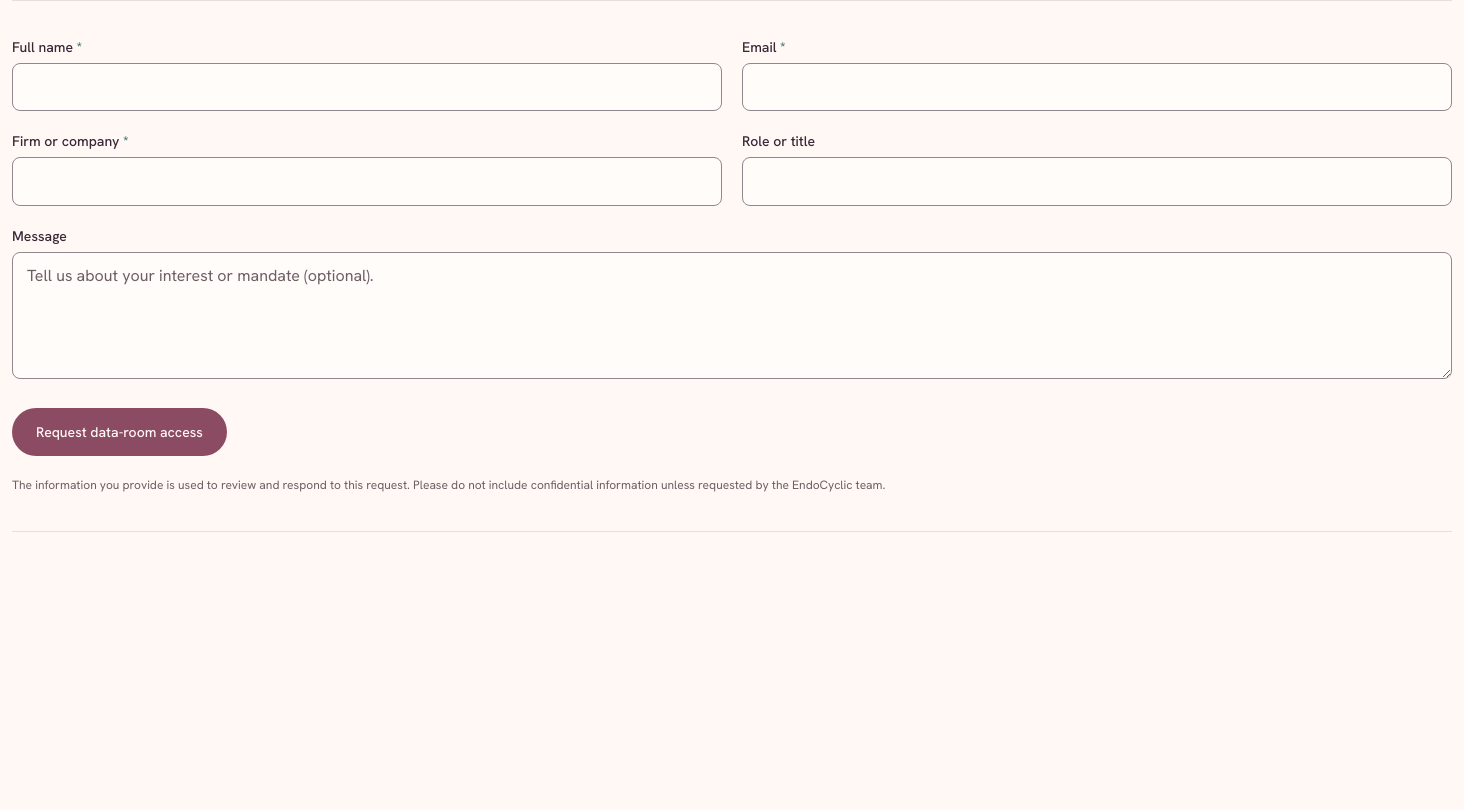
InvestorRequestForm › keeps request fields editable during a Retry-After gate
Type "Ada Lovelace" into the field labelled "Full name" at (367, 87), box [12,63,722,111]
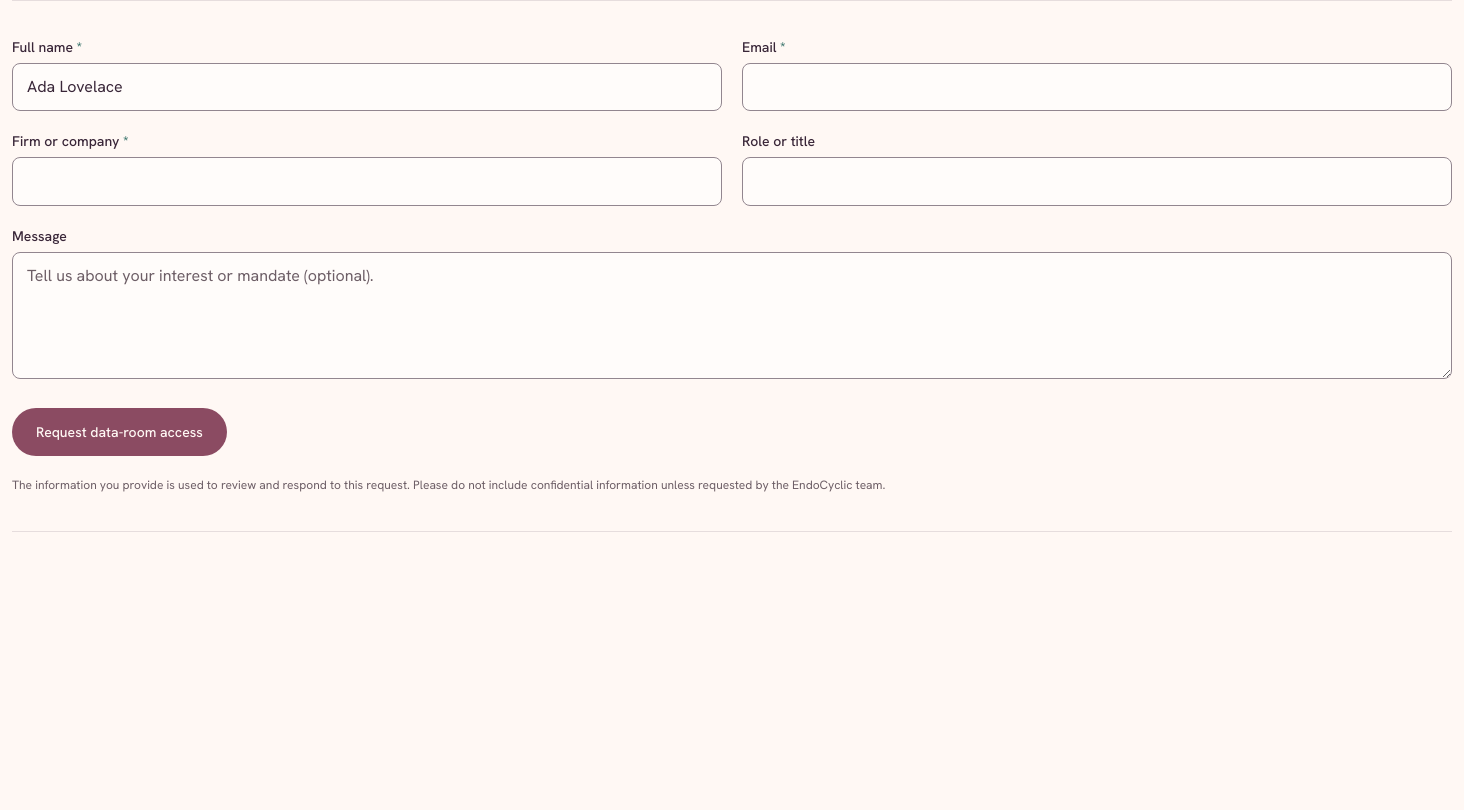
Type "ada@example.com" into the field labelled "Email" at (1097, 87), box [742,63,1452,111]
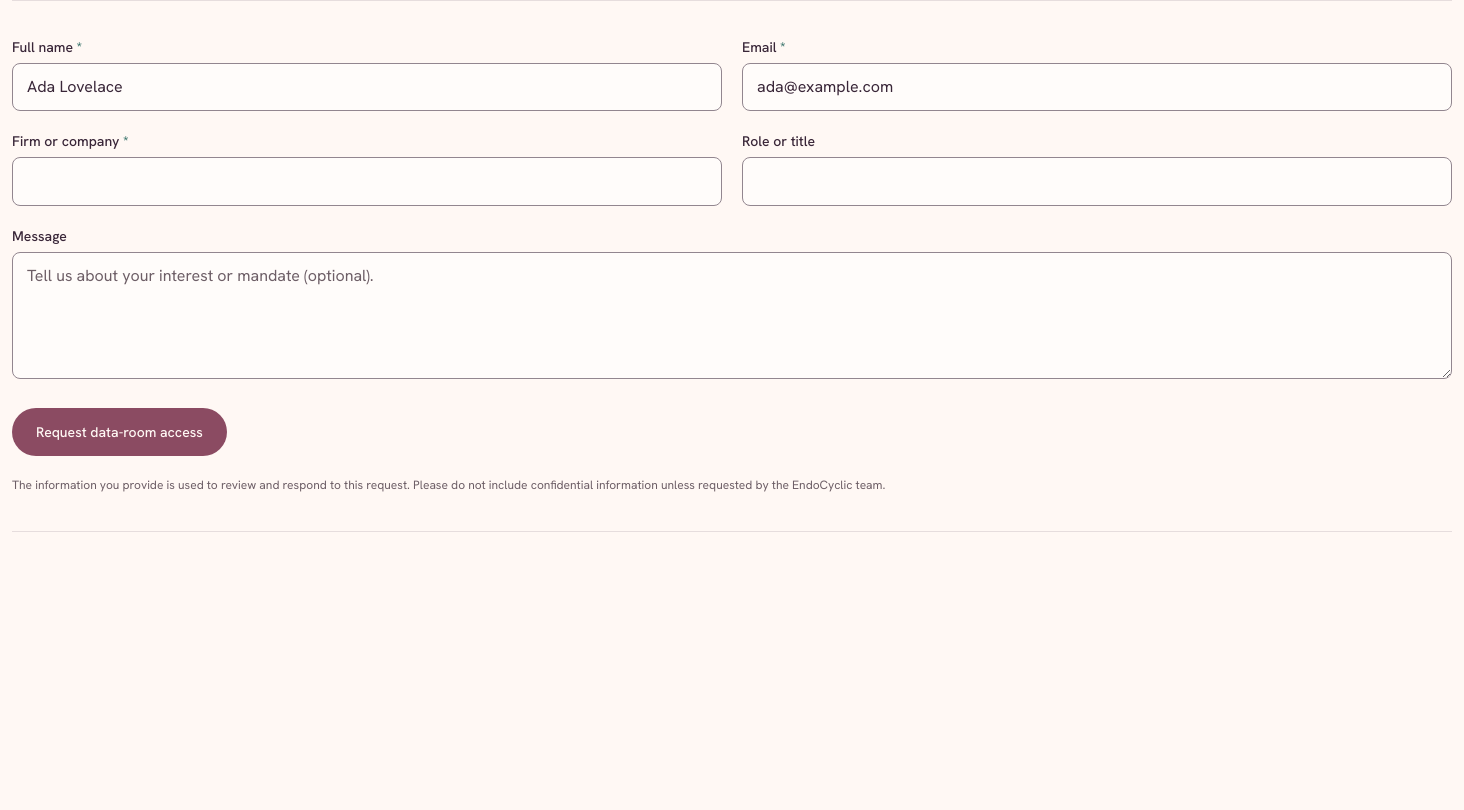
Type "Analytical Engine Partners" into the field labelled "Firm or company" at (367, 182), box [12,157,722,206]
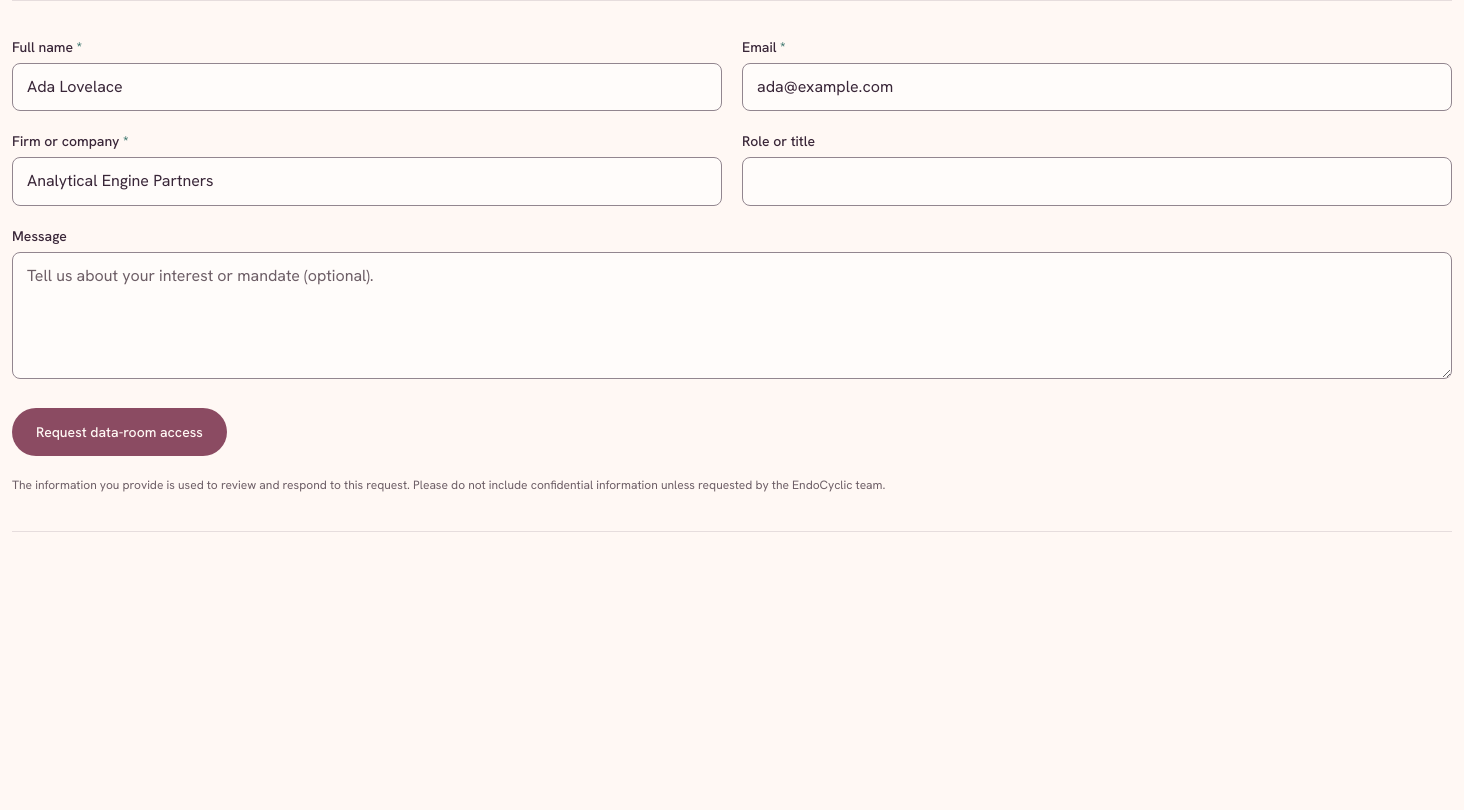
Click the button "Request data-room access" at (119, 432), box [12,408,227,456]
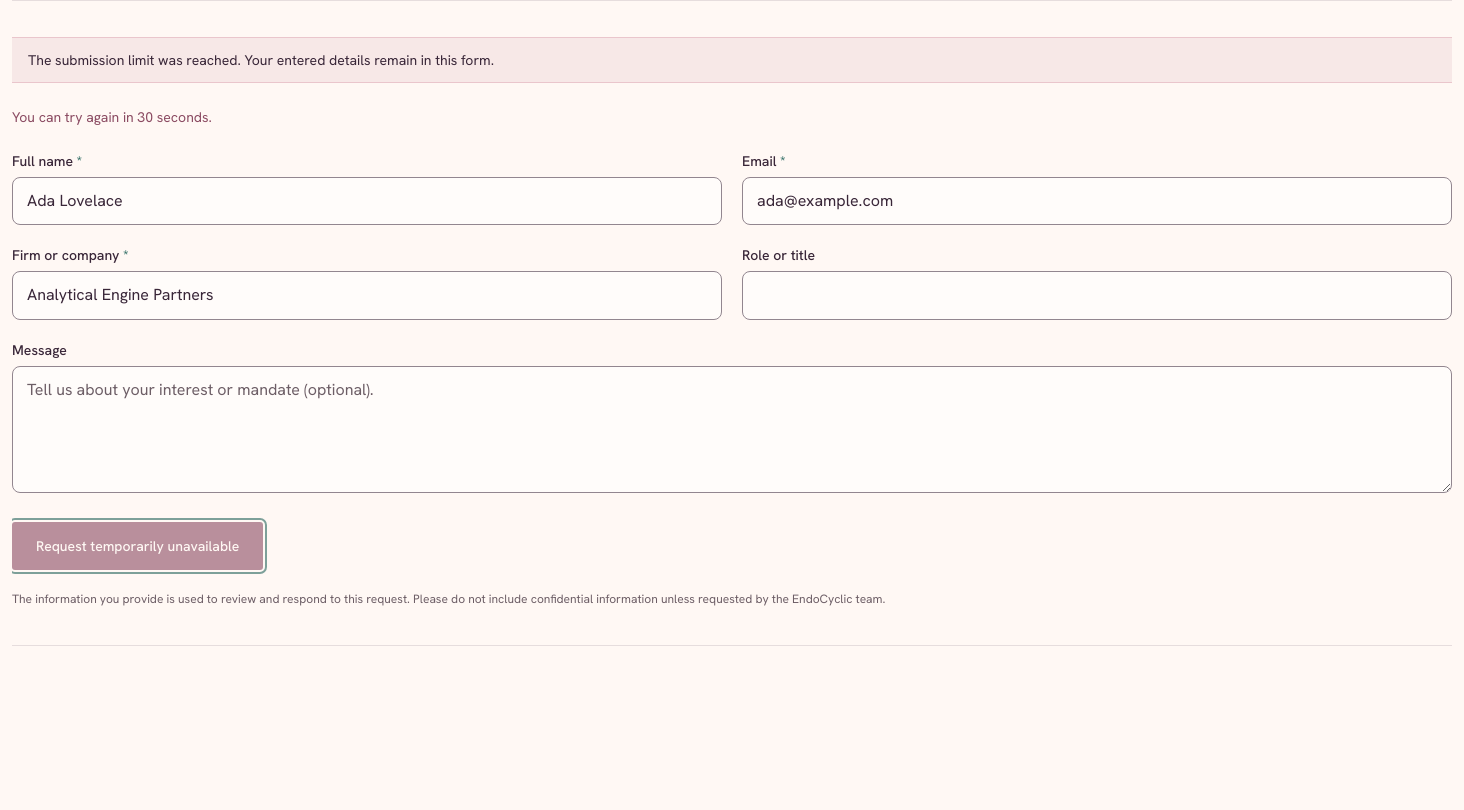
Now the text "You can try again in 30 seconds." is shown, box [12,108,212,126]
Now the text "The submission limit was reached. Your entered details remain in this form." is shown, box [12,37,1452,83]
Now the button "Request temporarily unavailable" is enabled, box [12,522,263,570]
